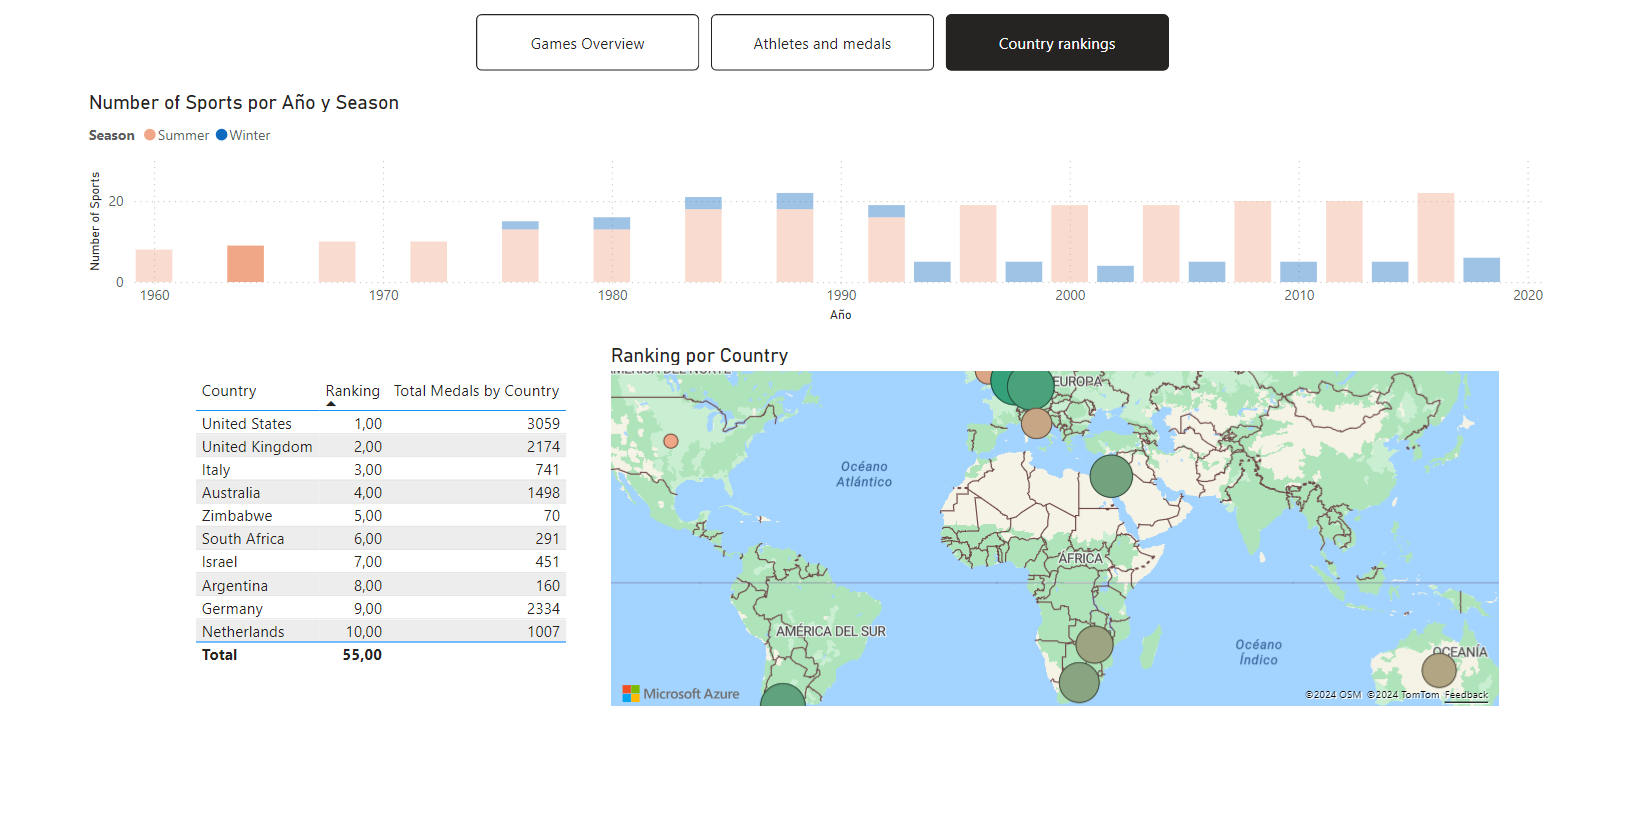

The page's visual inventory and layout, read from the dashboard file:
{"tool":"powerbi","page":{"name":"Country rankings","canvas":[1280,720],"ordinal":2},"visuals":[{"type":"pageNavigator","box":[339.8,13.7,600.3,49.9],"z":0},{"type":"tableEx","fields":{"Values":["Rankings.npc_name","Sum(Rankings.npc_rank)","Metrics medals.Total Medals by Country"]},"box":[91.8,324.4,339.5,265.3],"z":1000},{"type":"columnChart","fields":{"Category":["Games.games_start_date.Variación.Jerarquía de fechas.Año"],"Y":["CountNonNull(Sports.sport)"],"Series":["Games.games_season"]},"box":[0,79.2,1269.9,205],"z":2000},{"type":"map","fields":{"Size":["Sum(Rankings.npc_rank)"],"Category":["Winning Countries.npc_name"]},"box":[451.4,298,778.3,319.4],"z":3000}]}

Visuals, with their boxes on the page's 1280x720 design canvas (x1, y1, x2, y2). These are canvas units, not pixel positions in the 1645x817 screenshot, which may show the page scaled, cropped or inside an application window:
pageNavigator: {"x1": 340, "y1": 14, "x2": 940, "y2": 64}
tableEx - Rankings.npc_name x Sum(Rankings.npc_rank): {"x1": 92, "y1": 324, "x2": 431, "y2": 590}
columnChart - Games.games_start_date.Variación.Jerarquía de fechas.Año x CountNonNull(Sports.sport): {"x1": 0, "y1": 79, "x2": 1270, "y2": 284}
map - Sum(Rankings.npc_rank) x Winning Countries.npc_name: {"x1": 451, "y1": 298, "x2": 1230, "y2": 617}
